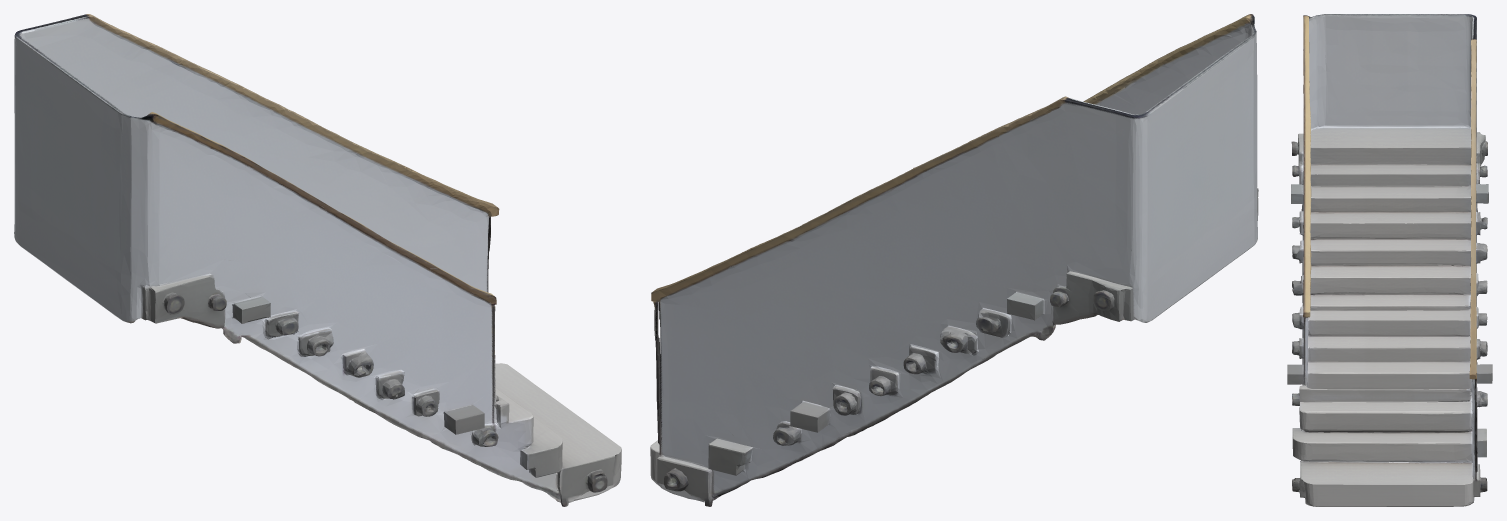
The picture shows the model from 3 angles, left to right: view 1: azimuth 30°, elevation 25°; view 2: azimuth 150°, elevation 25°; view 3: azimuth 270°, elevation 25°; orthographic projection. The views are drawn at different scales.
Visible parts, largest first — view 1: world; view 2: world; view 3: world.
Boxes of the visible parts, box(x1,y1,x2,y2) form: world: box(14, 14, 621, 506); world: box(650, 14, 1258, 506); world: box(1287, 14, 1492, 506).
Size of the model in its own units: 1 by 0.9557 by 0.5281.
1 material, 1 textured.
